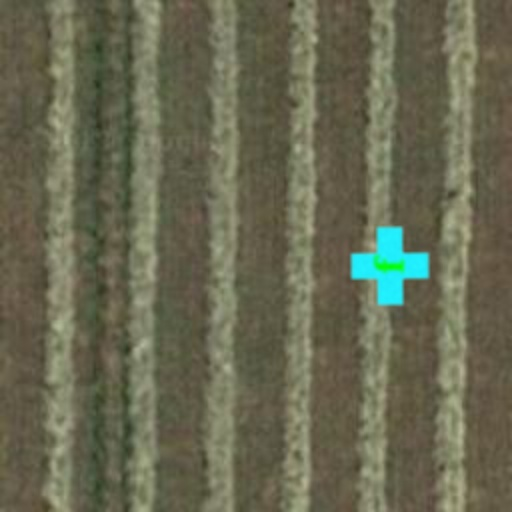cross: (350, 226, 430, 306)
